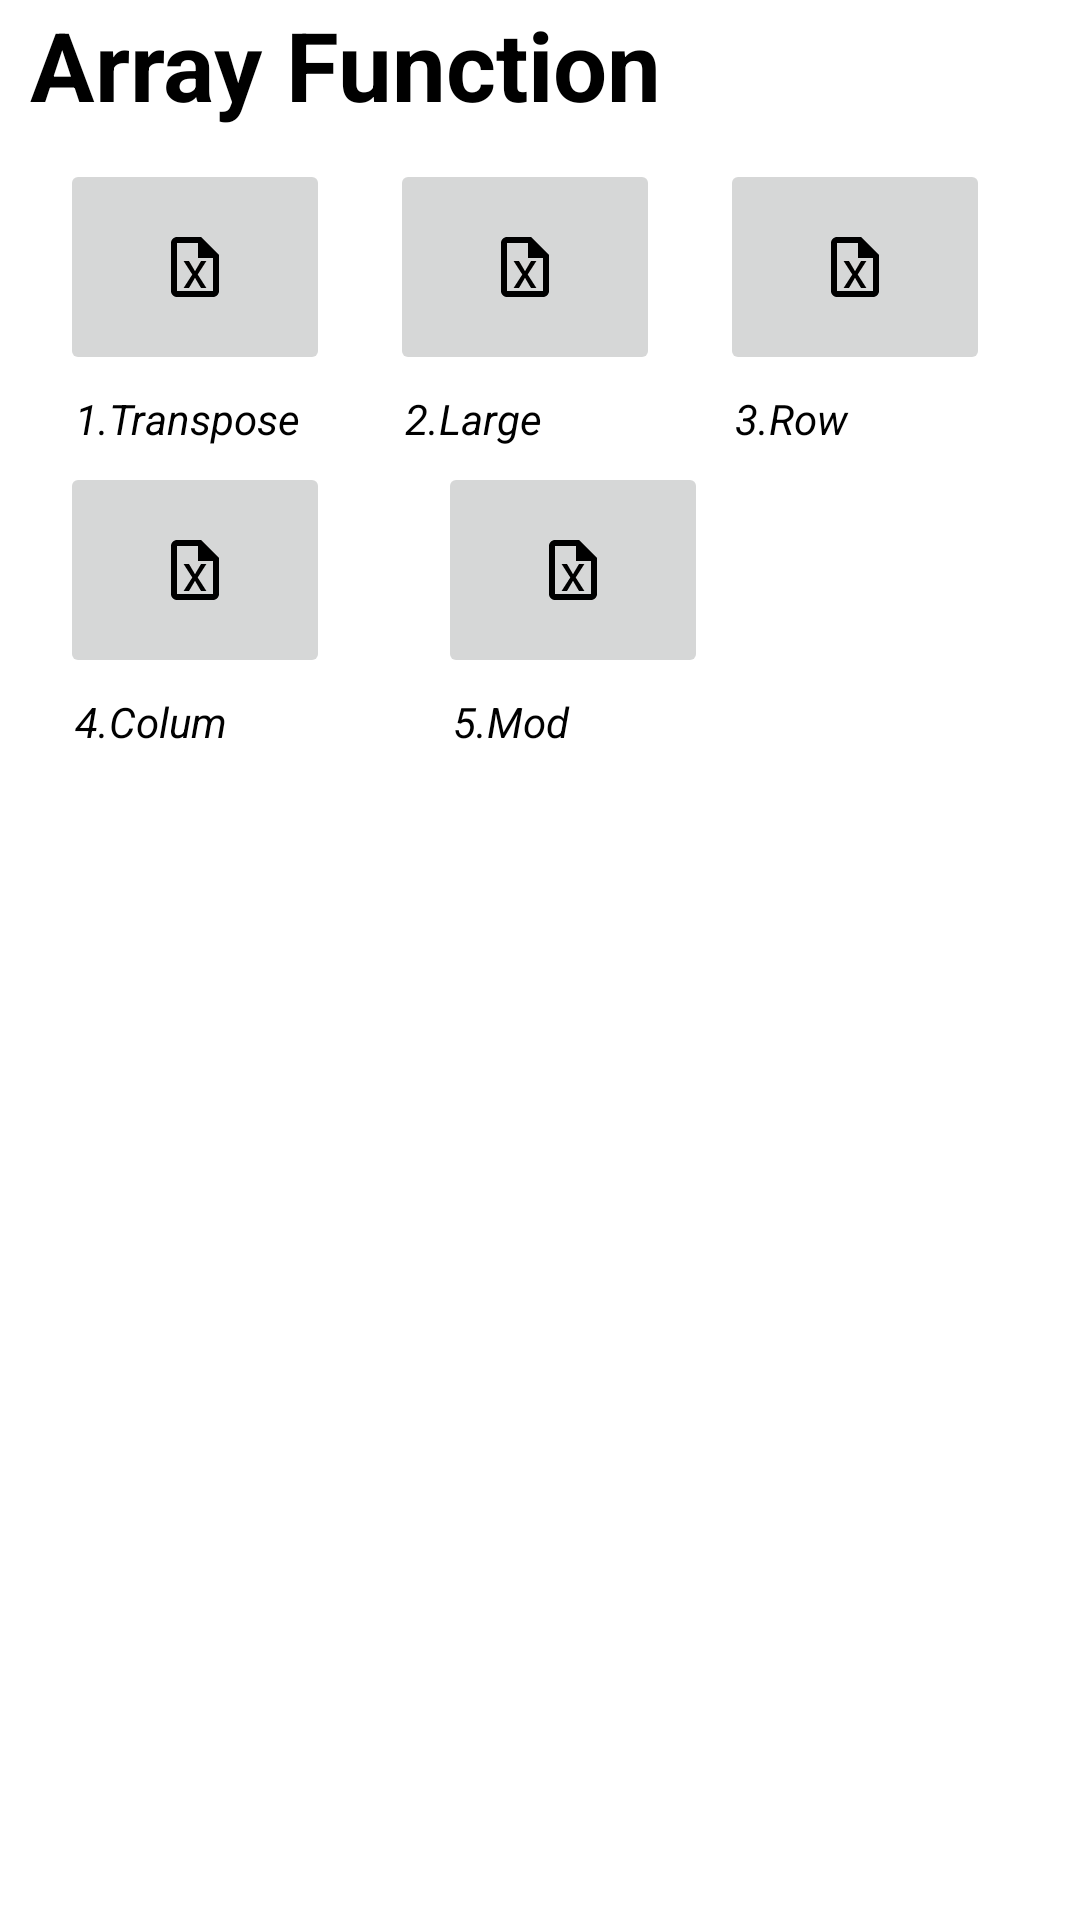

Point at icon controls on the screen. Image size 1080px×1920px, points as point (x, y).
file excel: point (195, 267), point (525, 267), point (855, 267), point (195, 570), point (573, 570)
